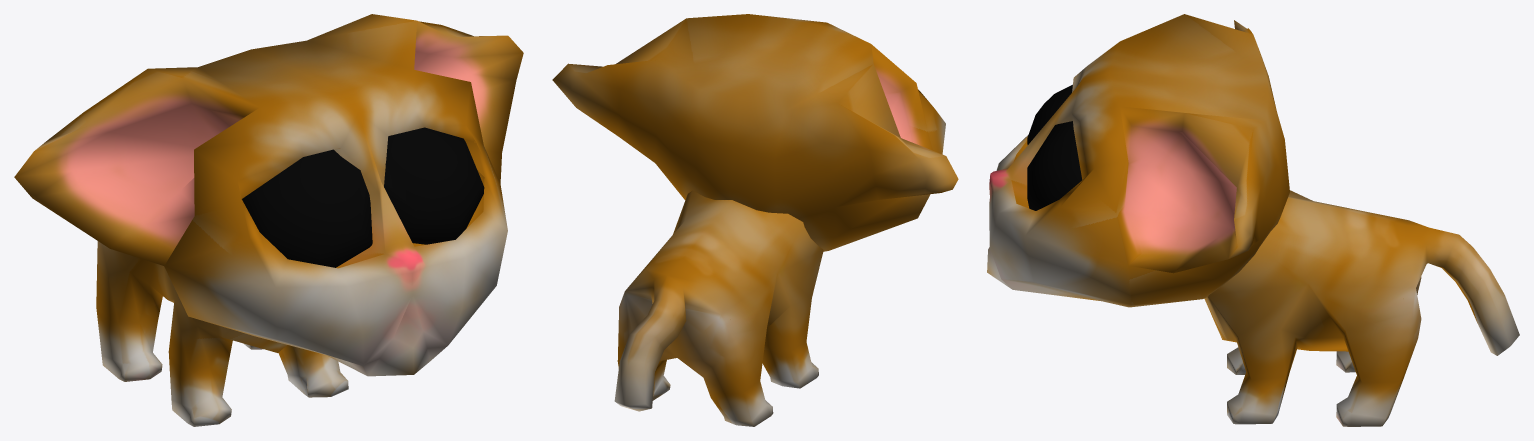
The model's file is Cat_01.fbx.
3 renders of one model, left to right at view 1: azimuth 30°, elevation 25°; view 2: azimuth 150°, elevation 25°; view 3: azimuth 270°, elevation 25°, orthographic. The views are drawn at different scales.
Parts seen in each view (by area): view 1: Cat.001; view 2: Cat.001; view 3: Cat.001.
Boxes of the visible parts, box(x1,y1,x2,y2) form: Cat.001: box(14, 14, 523, 426); Cat.001: box(552, 14, 958, 426); Cat.001: box(987, 14, 1519, 426).
Size of the model in its own units: 153 by 109 by 160.
